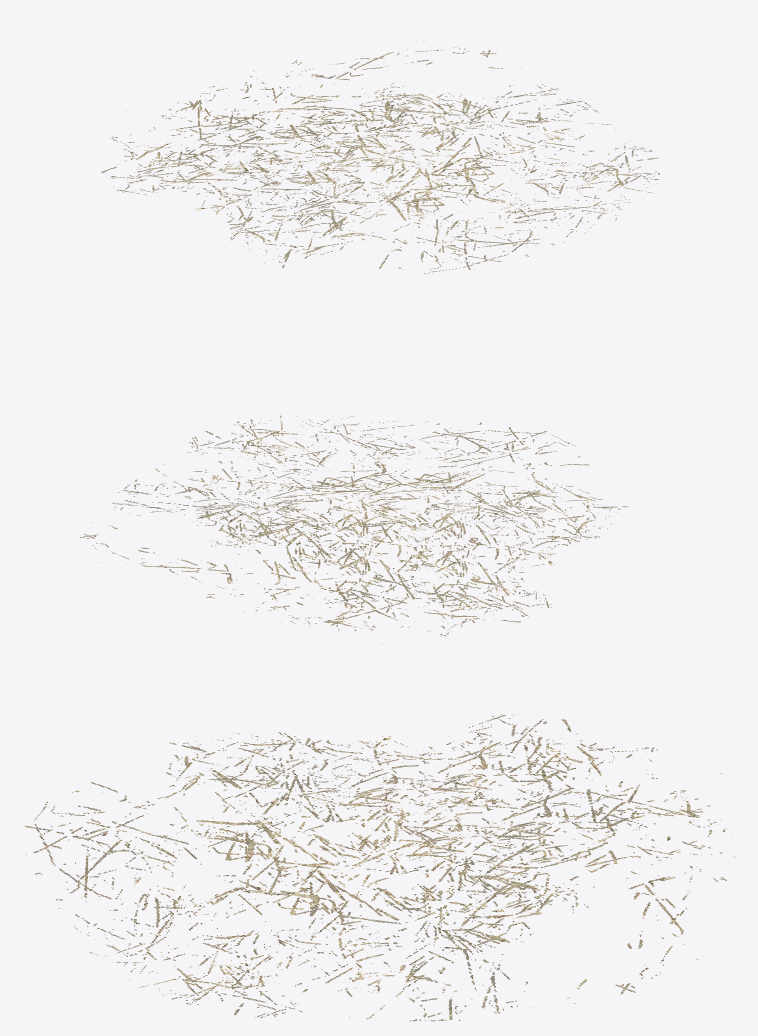
File: Hay_1.glb
3 renders of one model, top to bottom at view 1: azimuth 30°, elevation 25°; view 2: azimuth 150°, elevation 25°; view 3: azimuth 270°, elevation 25°, orthographic. The views are drawn at different scales.
Parts seen in each view (by area): view 1: SM_Hay_1; view 2: SM_Hay_1; view 3: SM_Hay_1.
Boxes of the visible parts, box(x1,y1,x2,y2) form: SM_Hay_1: box(101, 40, 659, 273); SM_Hay_1: box(80, 415, 628, 644); SM_Hay_1: box(25, 714, 741, 1021).
Size of the model in its own units: 0.281 by 0.0137 by 0.281.
Materials: 1 (1 with a texture image).
